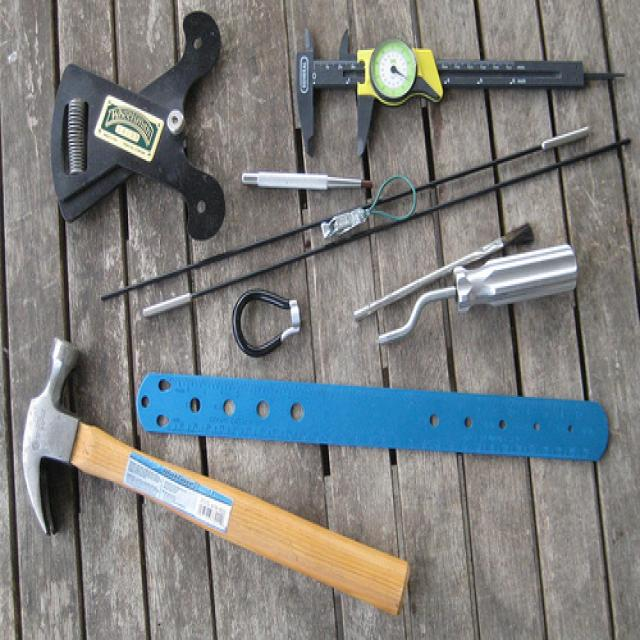hammer: (6, 335, 459, 640)
